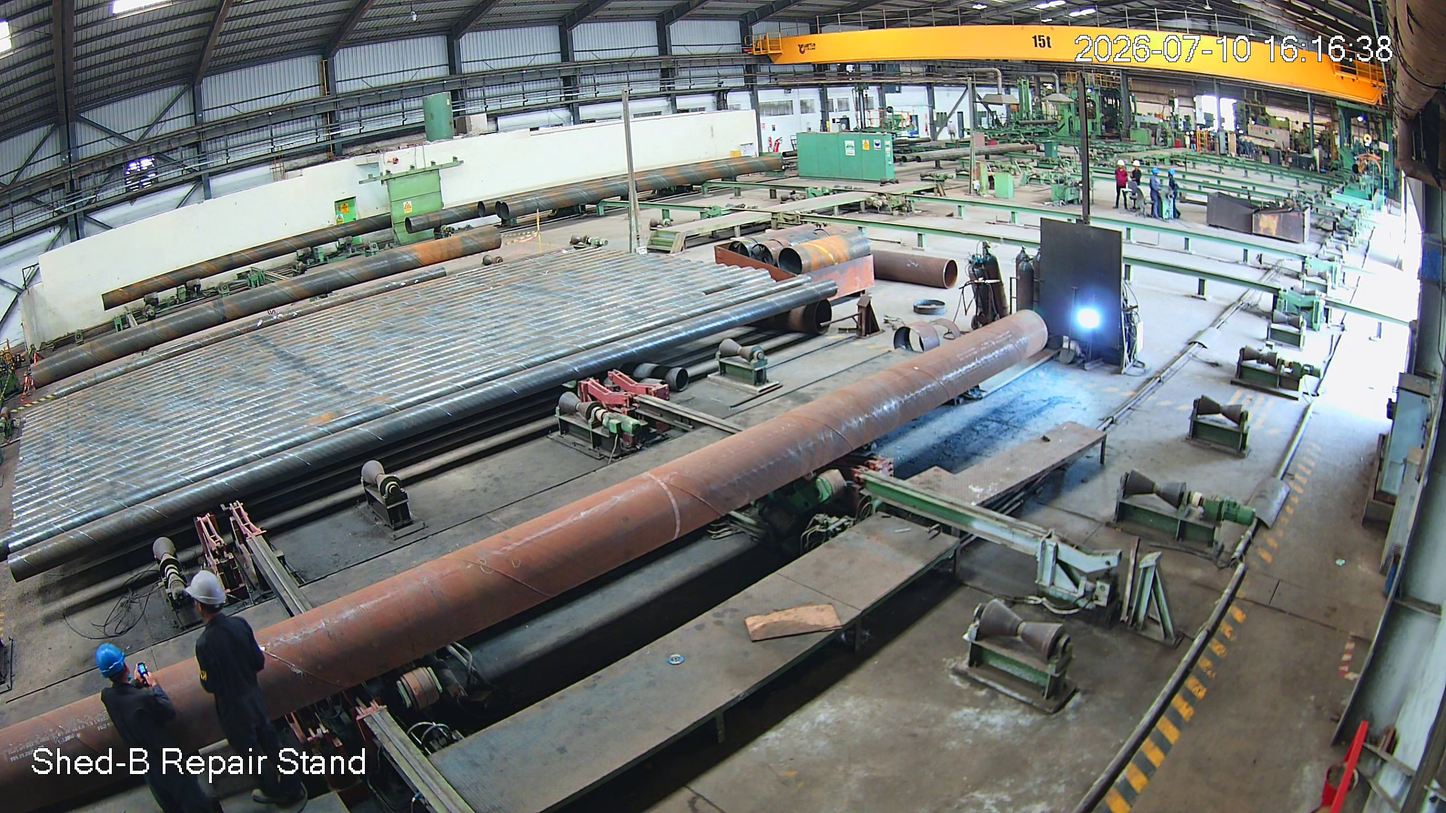Helmet: (93, 636, 157, 696), (185, 566, 252, 619), (1150, 166, 1163, 179), (1167, 166, 1177, 182), (1116, 159, 1125, 170), (1132, 159, 1140, 171)
Person: (183, 573, 313, 813), (85, 643, 212, 813), (1167, 168, 1183, 221), (1112, 160, 1128, 209), (1148, 167, 1163, 219), (1130, 160, 1142, 190)
